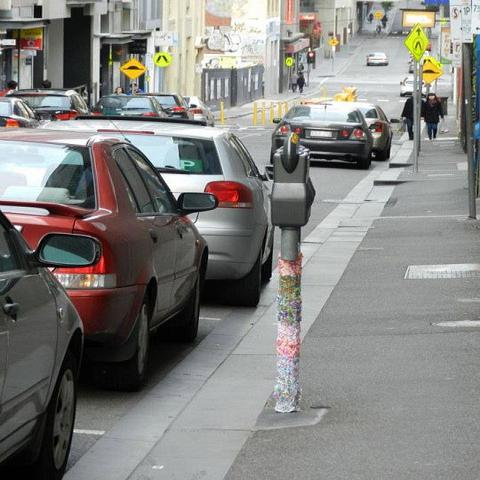car: (0, 124, 217, 390), (36, 111, 278, 311), (1, 217, 102, 476), (270, 105, 374, 170), (309, 100, 401, 162), (4, 87, 90, 113), (134, 92, 195, 120), (92, 95, 166, 117), (0, 96, 44, 129), (182, 96, 217, 122), (366, 52, 390, 67)
